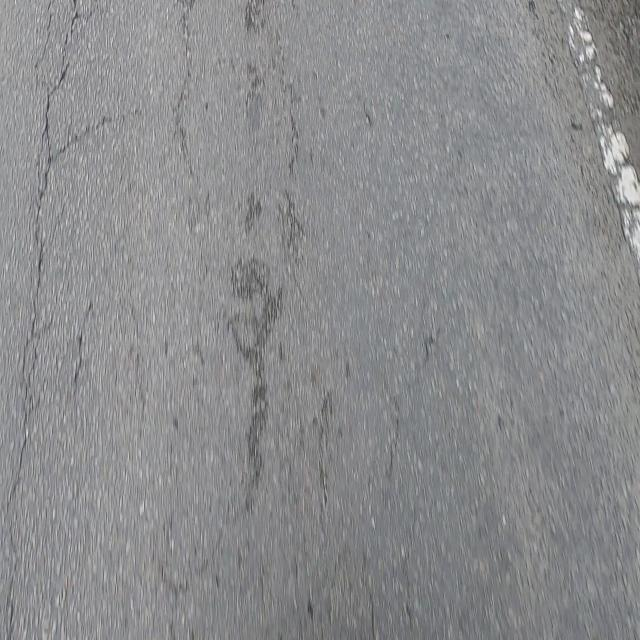Retak-Memanjang: (2, 3, 75, 523)
